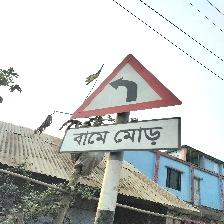Left-Turn: (62, 54, 184, 155)
